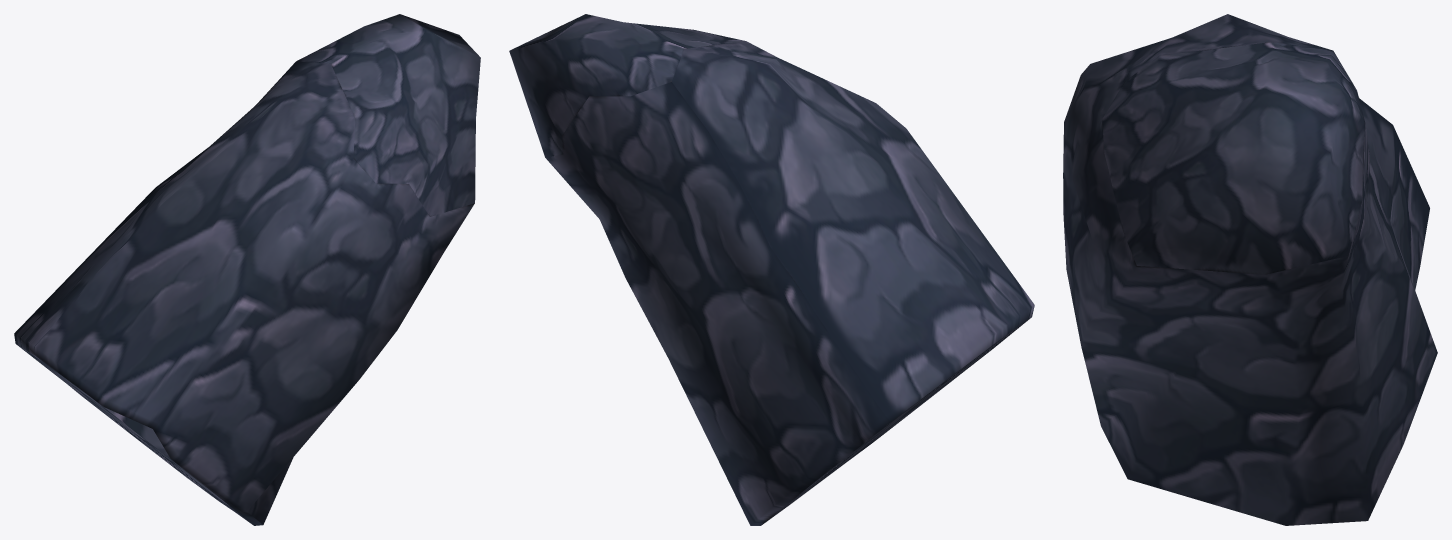
File: big_rock_1.fbx
The picture shows the model from 3 angles, left to right: view 1: azimuth 30°, elevation 25°; view 2: azimuth 150°, elevation 25°; view 3: azimuth 270°, elevation 25°; orthographic projection. The views are drawn at different scales.
Visible parts, largest first — view 1: Side_rock; view 2: Side_rock; view 3: Side_rock.
Boxes of the visible parts, x1,y1,x2,y2 form: Side_rock: (14, 14, 480, 525); Side_rock: (509, 14, 1034, 525); Side_rock: (1063, 14, 1437, 525).
Size of the model in its own units: 17.71 by 16.14 by 9.71.
